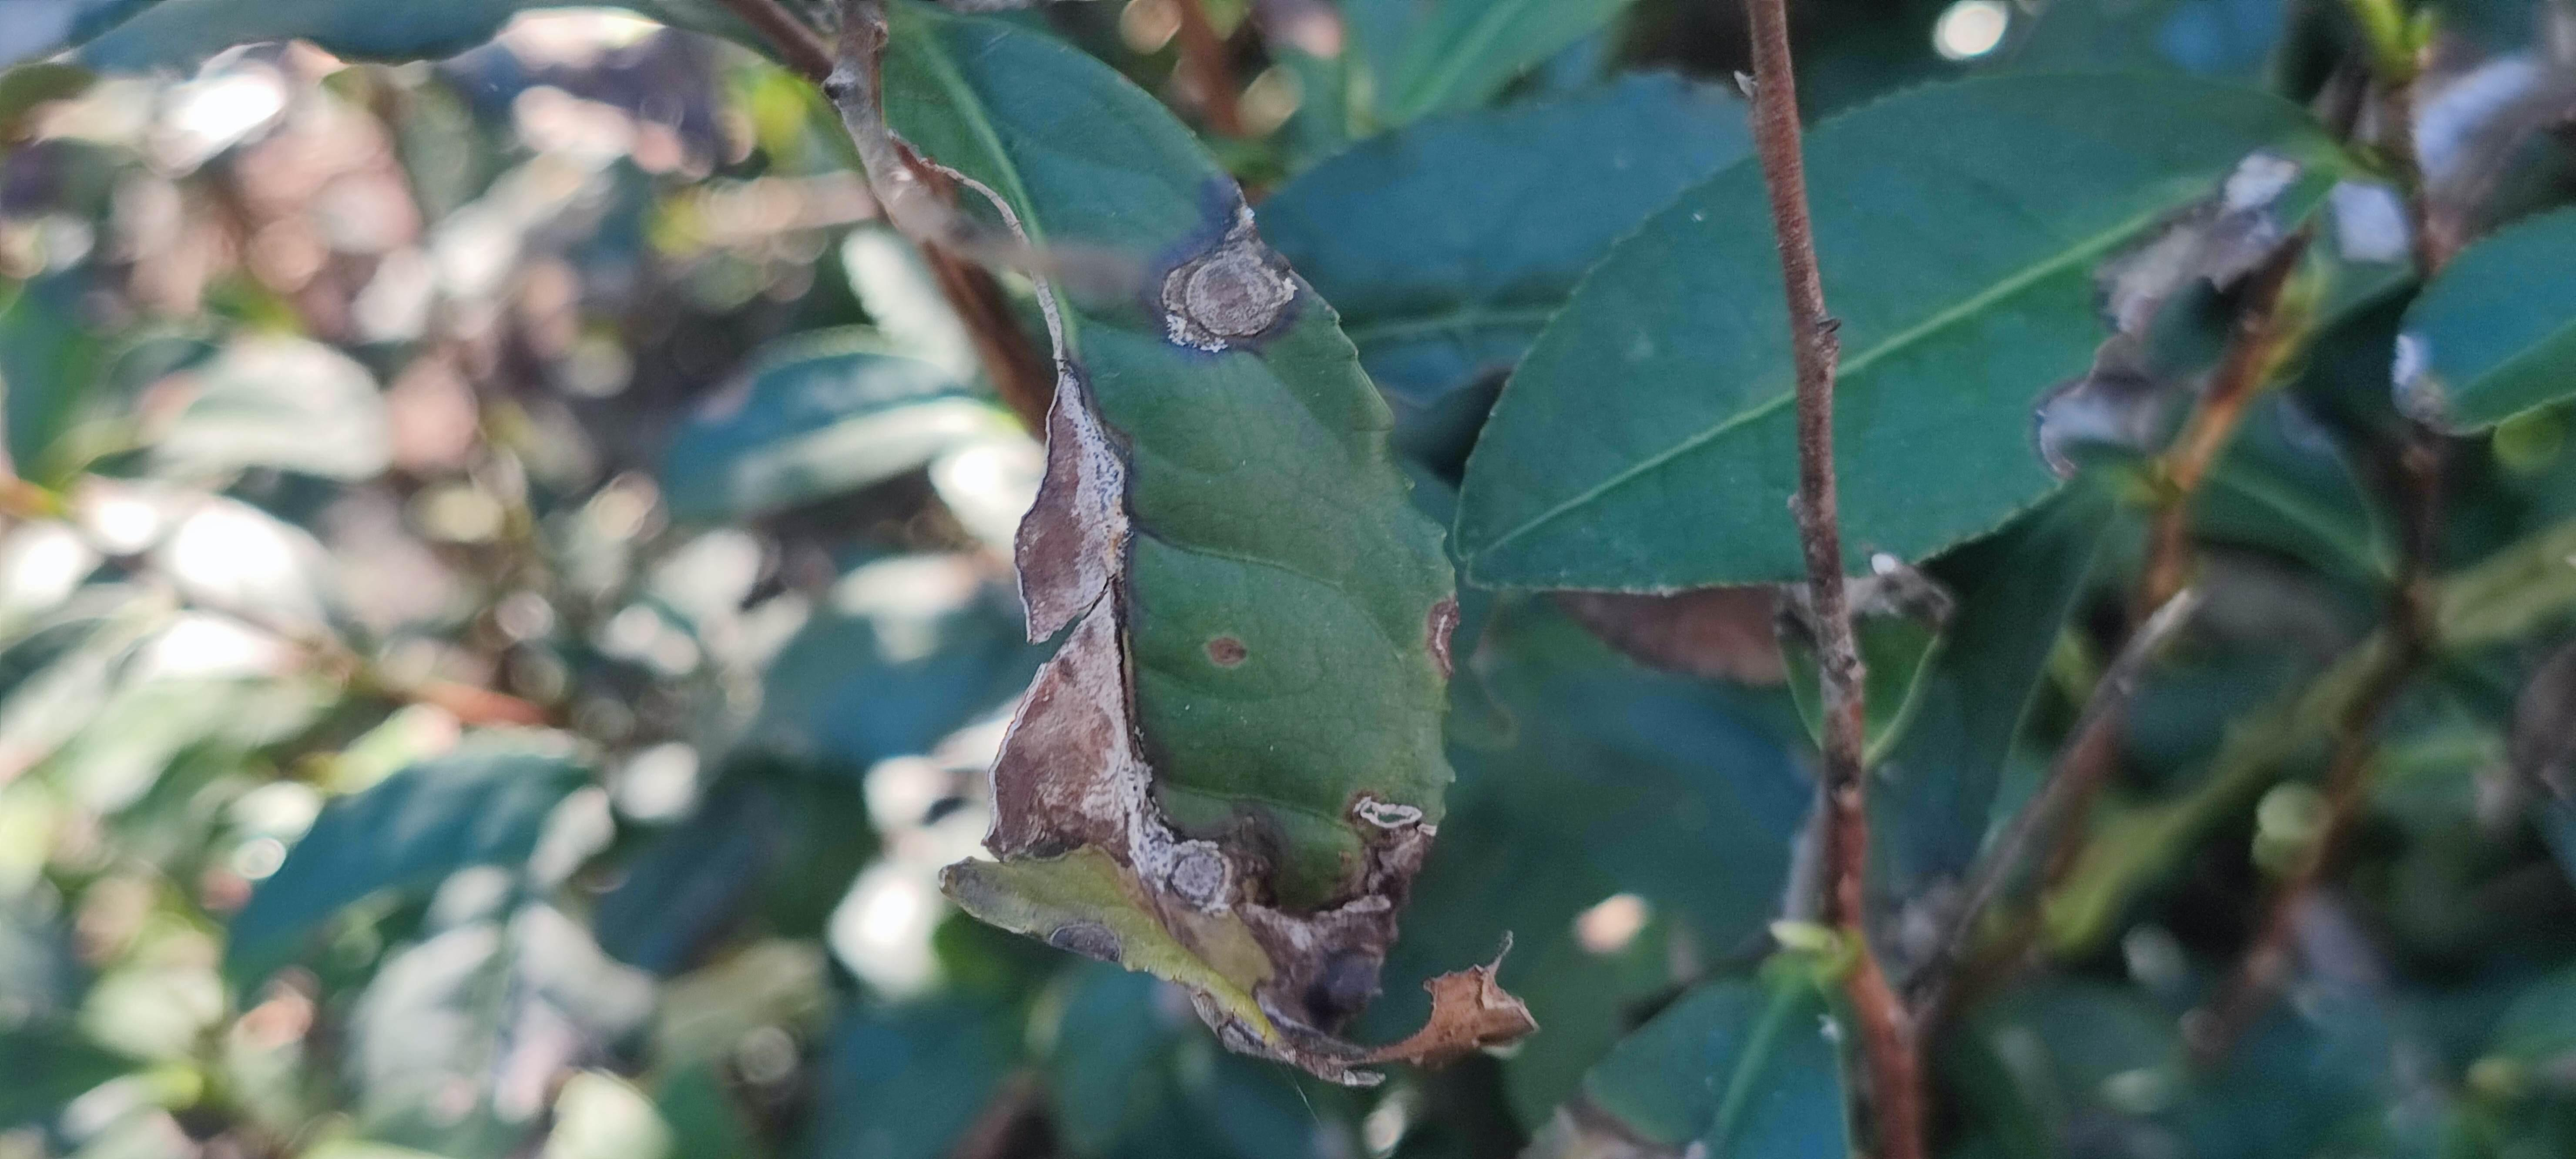tanju_high: (881, 13, 1539, 1088), (1454, 62, 2339, 601)
